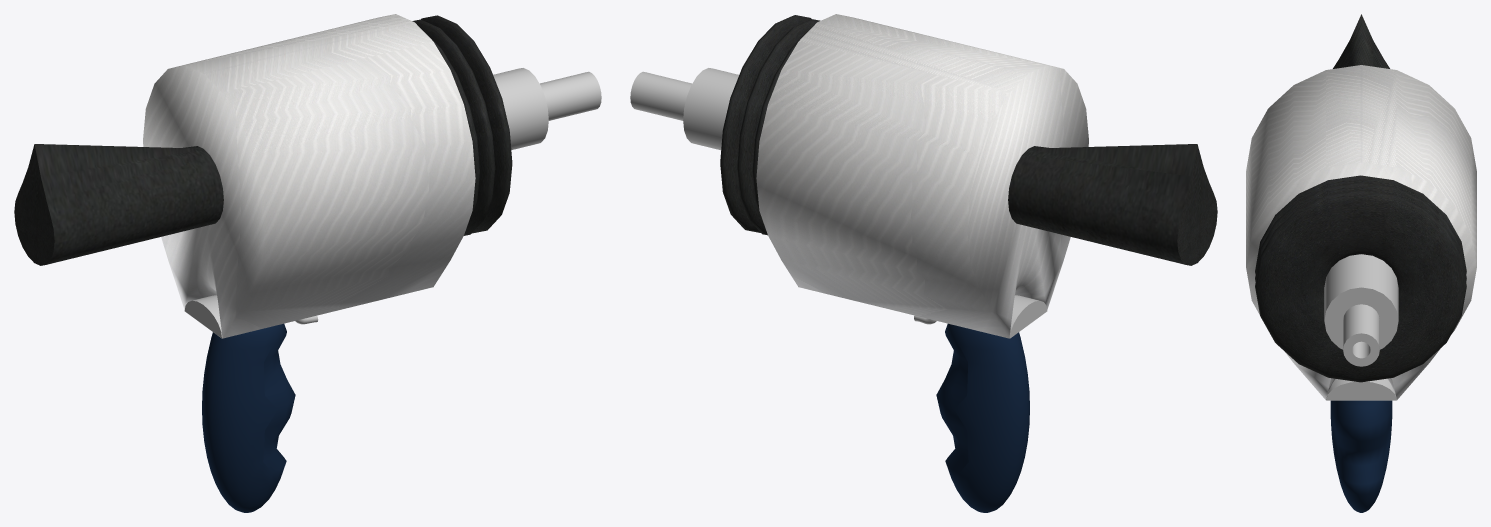
File: Pistola.fbx
3 renders of one model, left to right at view 1: azimuth 30°, elevation 25°; view 2: azimuth 150°, elevation 25°; view 3: azimuth 270°, elevation 25°, orthographic. The views are drawn at different scales.
Visible parts, largest first — view 1: pTorus5; view 2: pTorus5; view 3: pTorus5.
Boxes of the visible parts, x1=… form: pTorus5: x1=14, y1=14, x2=601, y2=512; pTorus5: x1=630, y1=14, x2=1217, y2=512; pTorus5: x1=1246, y1=14, x2=1476, y2=512.
Size of the model in its own units: 5.29 by 4.07 by 2.
